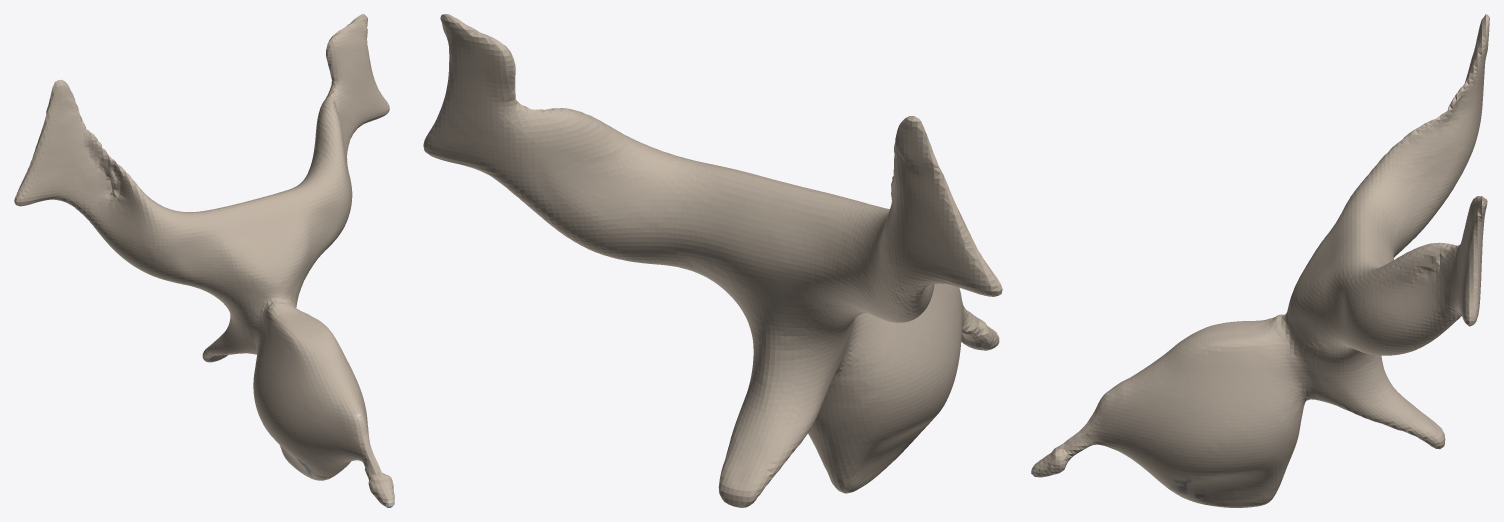
Rendered from rabbit.glb.
3 renders of one model, left to right at view 1: azimuth 30°, elevation 25°; view 2: azimuth 150°, elevation 25°; view 3: azimuth 270°, elevation 25°, orthographic. The views are drawn at different scales.
Parts seen in each view (by area): view 1: mesh.ply; view 2: mesh.ply; view 3: mesh.ply.
Part boxes in pixels (bbox=[...]): mesh.ply: bbox=[14, 14, 394, 507]; mesh.ply: bbox=[423, 14, 1002, 507]; mesh.ply: bbox=[1031, 14, 1489, 507].
Size of the model in its own units: 0.9801 by 0.8747 by 0.8815.
